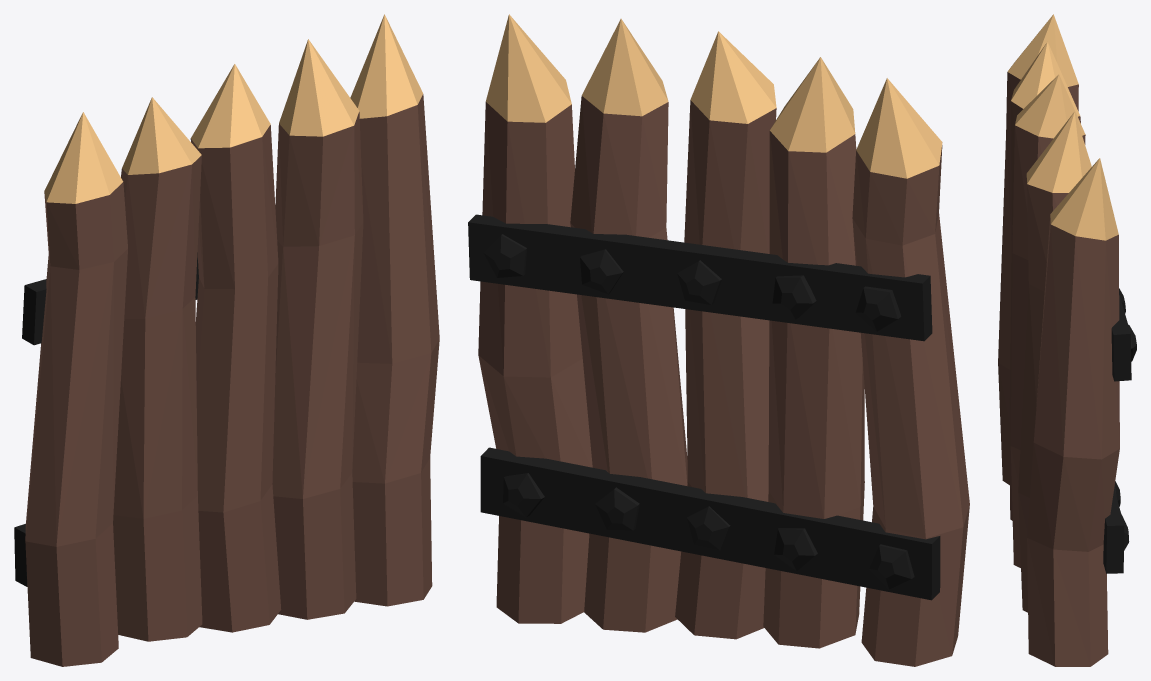
The picture shows the model from 3 angles, left to right: view 1: azimuth 30°, elevation 25°; view 2: azimuth 150°, elevation 25°; view 3: azimuth 270°, elevation 25°; orthographic projection. The views are drawn at different scales.
Parts seen in each view (by area): view 1: group_492324465; view 2: group_492324465; view 3: group_492324465.
Boxes of the visible parts, x1,y1,x2,y2 form: group_492324465: (14, 14, 439, 666); group_492324465: (468, 14, 969, 666); group_492324465: (998, 14, 1136, 666).
Bounding box in the file's own units: 56.87 × 72.91 × 17.97.
